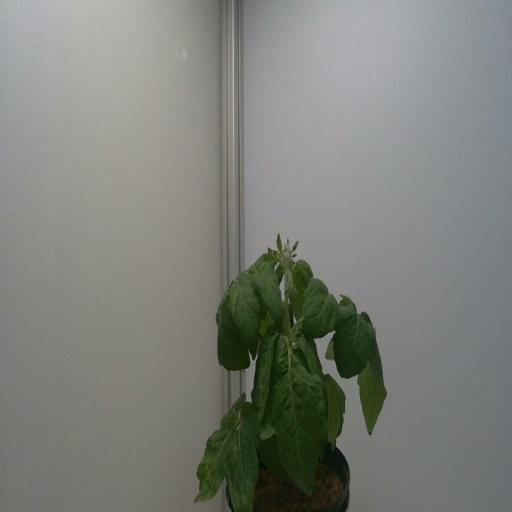Tomato-Leaves-Cupboard-: (271, 332, 329, 500), (298, 332, 342, 450), (188, 418, 236, 505), (357, 302, 387, 438), (332, 294, 378, 379), (226, 271, 264, 362), (224, 421, 260, 510), (303, 275, 343, 339), (250, 256, 282, 331), (218, 305, 252, 374), (287, 255, 319, 328), (252, 333, 271, 437), (220, 391, 246, 422), (244, 403, 262, 447), (279, 294, 295, 330), (325, 337, 342, 361), (215, 294, 225, 324), (276, 229, 283, 256)
